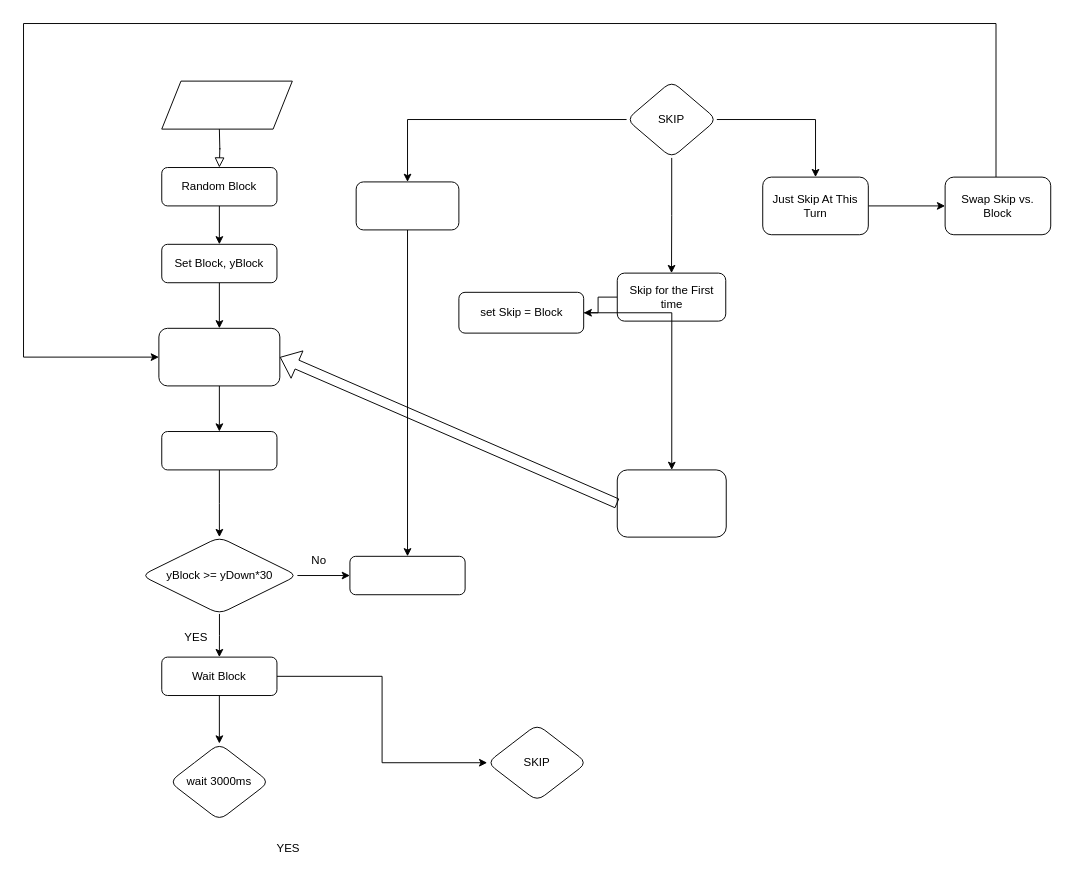
Image size: 1068x876. Some labels were removed from this diagram. Each missing label, with the centre of its shape:
Clicked Skip This Turn: (x=407, y=205)
Draw Down: (x=219, y=356)
Drop Block: (x=407, y=575)
New Turn: (x=226, y=104)
set Block = Next Block: (x=671, y=503)
Set yDown (1/30): (x=219, y=450)
